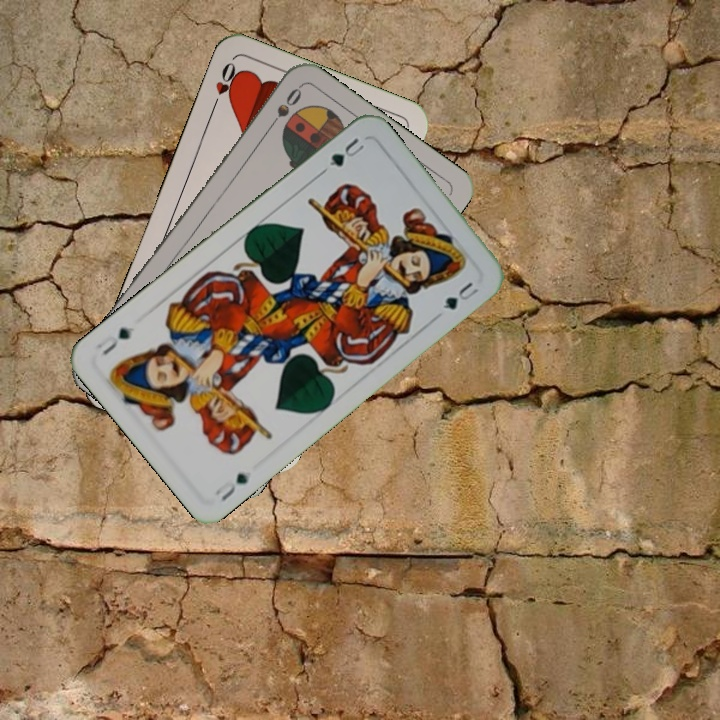GU: (325, 133, 367, 170), (211, 468, 251, 504)
HO: (207, 57, 243, 113)
SO: (263, 83, 305, 134)
